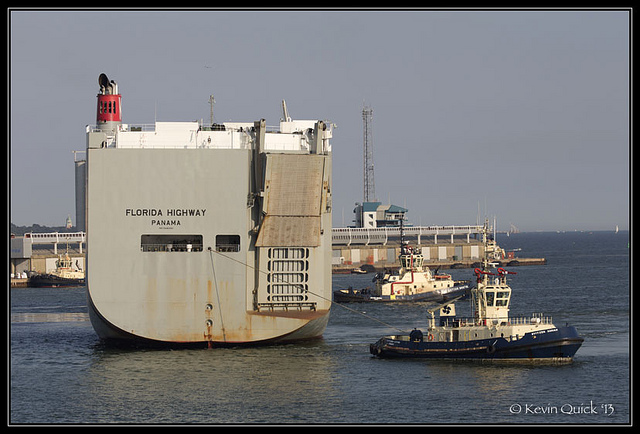PCC: (84, 78, 330, 351)
tug_boat: (366, 254, 584, 362), (336, 211, 469, 305), (32, 236, 84, 290)
